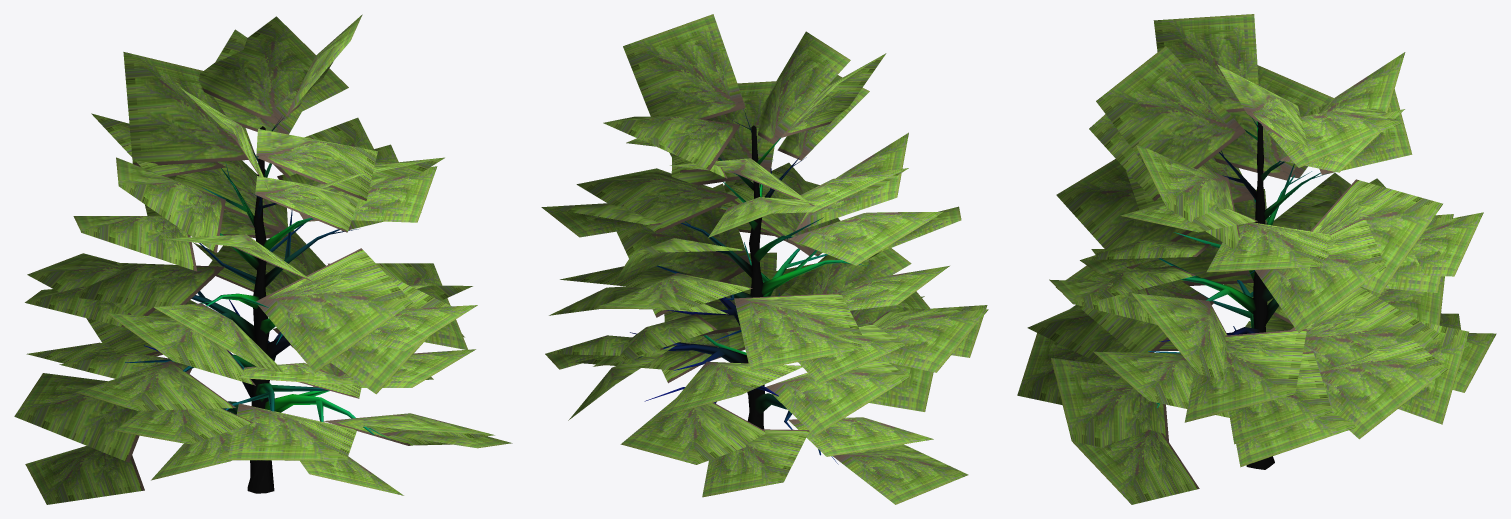
File: Tree02.fbx
The picture shows the model from 3 angles, left to right: view 1: azimuth 30°, elevation 25°; view 2: azimuth 150°, elevation 25°; view 3: azimuth 270°, elevation 25°; orthographic projection. The views are drawn at different scales.
Visible parts, largest first — view 1: Tree_1, Tree_0; view 2: Tree_1, Tree_0; view 3: Tree_1, Tree_0.
Boxes of the visible parts, x1,y1,x2,y2 form: Tree_1: [14, 14, 512, 504]; Tree_0: [125, 116, 390, 493]; Tree_1: [541, 14, 988, 504]; Tree_0: [630, 109, 868, 464]; Tree_1: [1017, 14, 1496, 504]; Tree_0: [1148, 115, 1327, 469].
Size of the model in its own units: 405 by 420 by 423.
